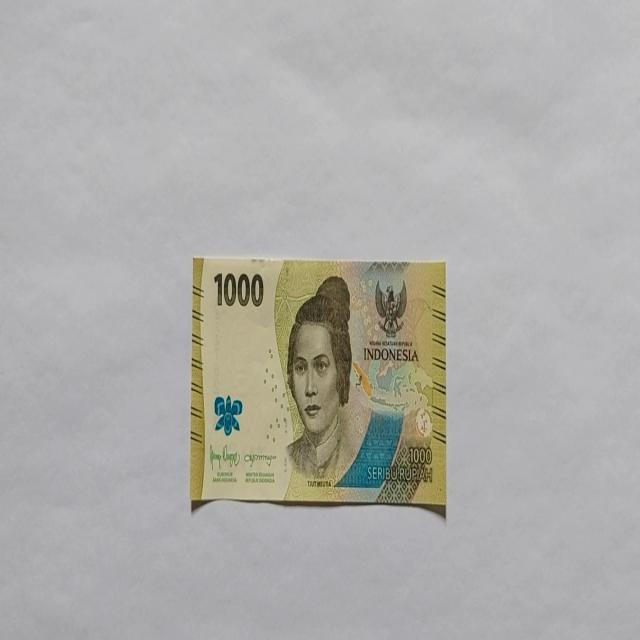seribu rupiah kertas: (190, 255, 446, 514)
